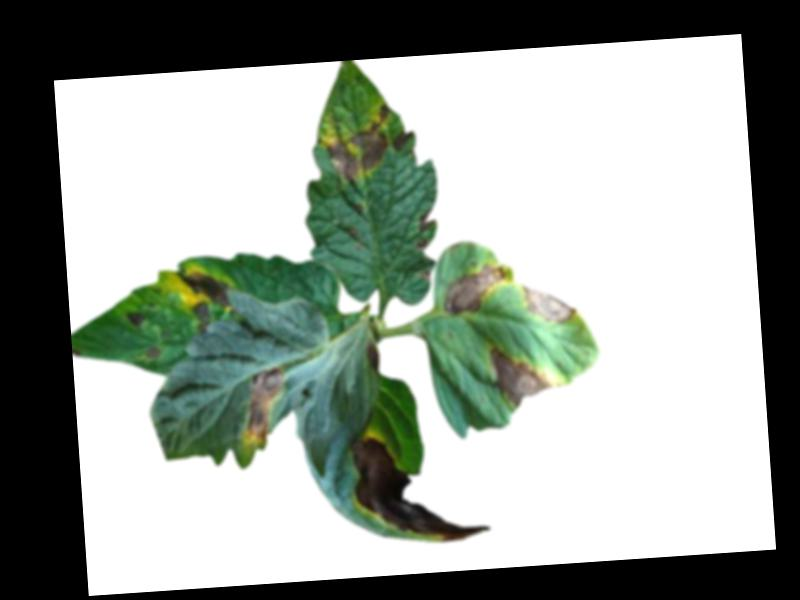Early_blight: (348, 429, 493, 548), (323, 106, 395, 185), (490, 344, 561, 411), (241, 367, 291, 450), (441, 263, 509, 318), (175, 268, 231, 312), (520, 282, 573, 324), (415, 208, 435, 250), (191, 300, 211, 335), (393, 129, 413, 153), (126, 311, 145, 328), (147, 348, 162, 362)
